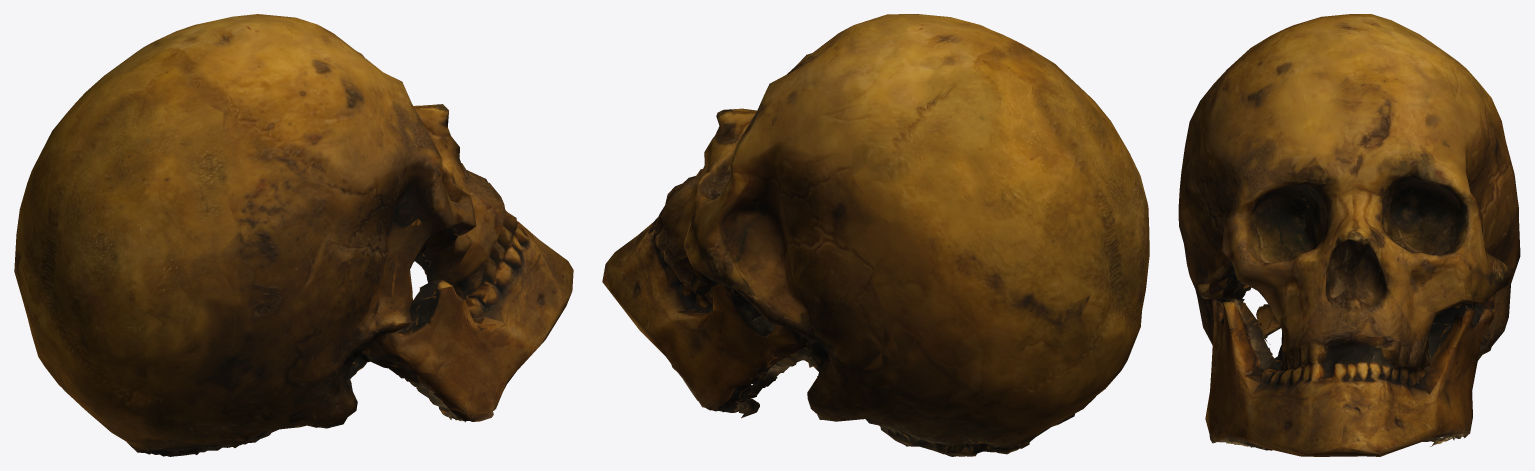
The model's file is skull.glb.
3 renders of one model, left to right at view 1: azimuth 30°, elevation 25°; view 2: azimuth 150°, elevation 25°; view 3: azimuth 270°, elevation 25°, orthographic. The views are drawn at different scales.
Visible parts, largest first — view 1: Object_3; view 2: Object_3; view 3: Object_3.
Boxes of the visible parts, box(x1,y1,x2,y2) form: Object_3: box(14, 14, 573, 456); Object_3: box(602, 14, 1149, 456); Object_3: box(1178, 14, 1520, 456).
Size of the model in its own units: 3.57 by 2.53 by 2.27.
Materials: 1 (1 with a texture image).
